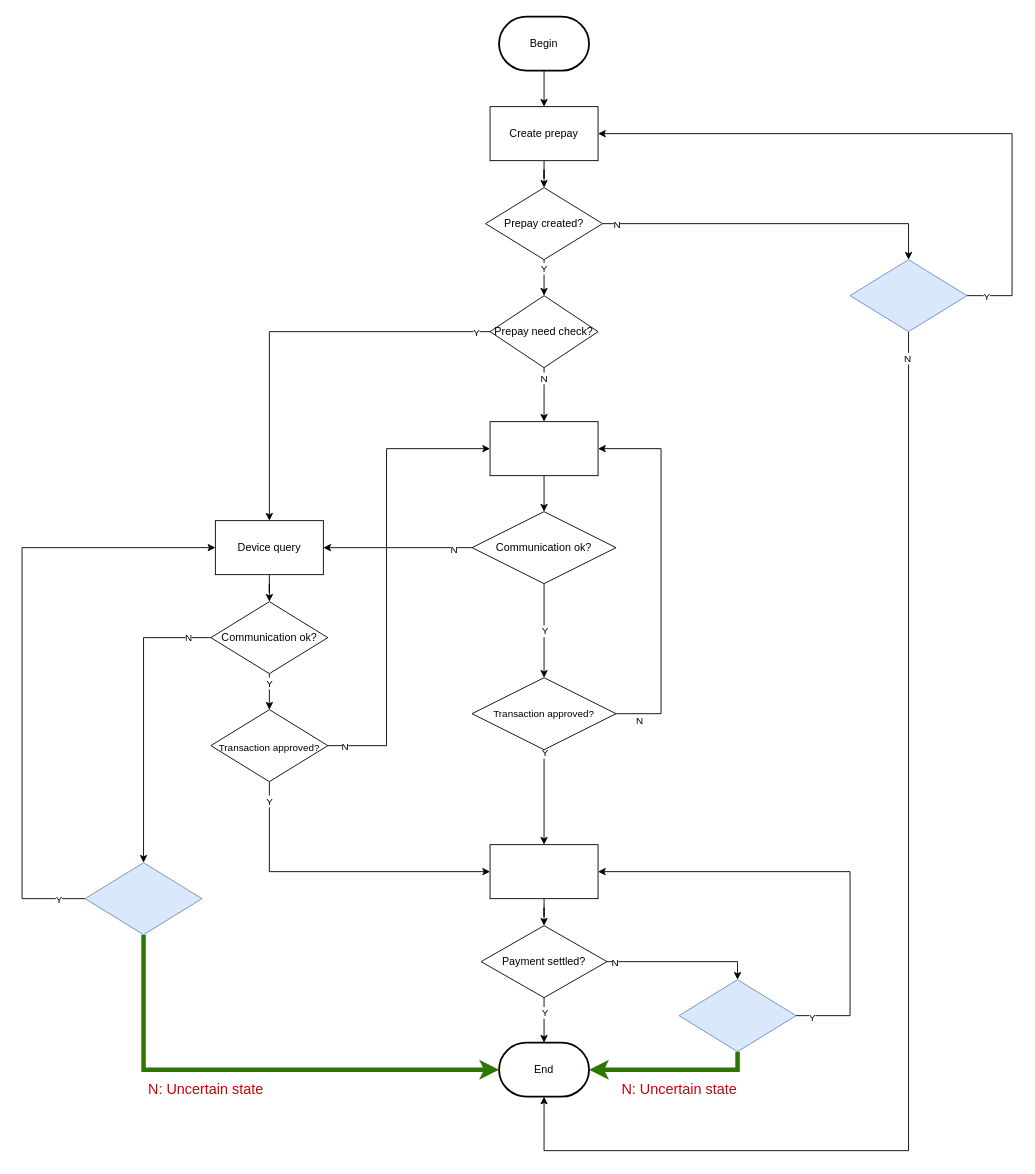
Image size: 1035x1174. Some labels were removed from this diagram. The box of each missing label's shape, as (x1, y1, x2, y2) in pixels:
Device error, retry?: (84, 862, 202, 935)
Device sale with prepay#: (489, 421, 598, 476)
Prepay error, retry?: (849, 259, 967, 332)
Settle error, retry?: (678, 979, 796, 1052)
Settle payment: (489, 844, 598, 899)
